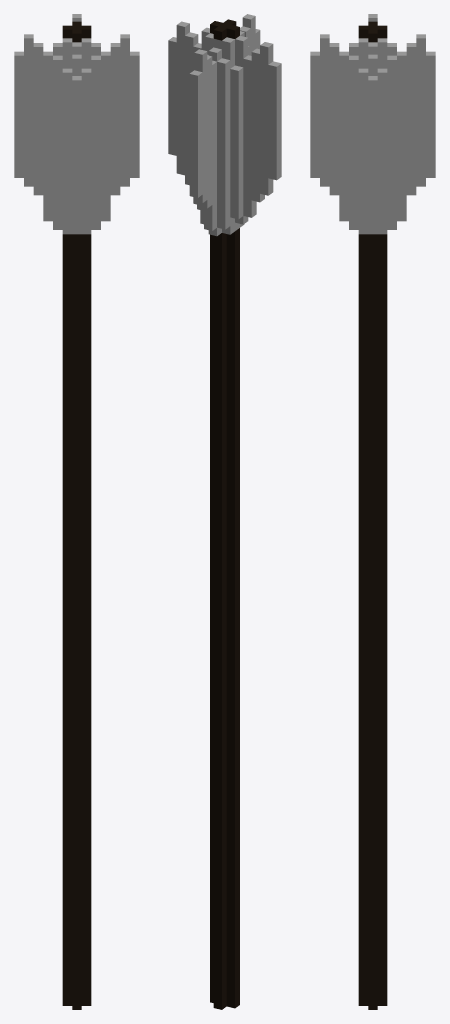
The model's file is Arrow_Bodkin_Half_Large.obj.
3 renders of one model, left to right at view 1: azimuth 90°, elevation 25°; view 2: azimuth 150°, elevation 25°; view 3: azimuth 270°, elevation 25°, orthographic.
Size of the model in its own units: 1.3 by 11.2 by 1.3.
Materials: 1 (1 with a texture image).
